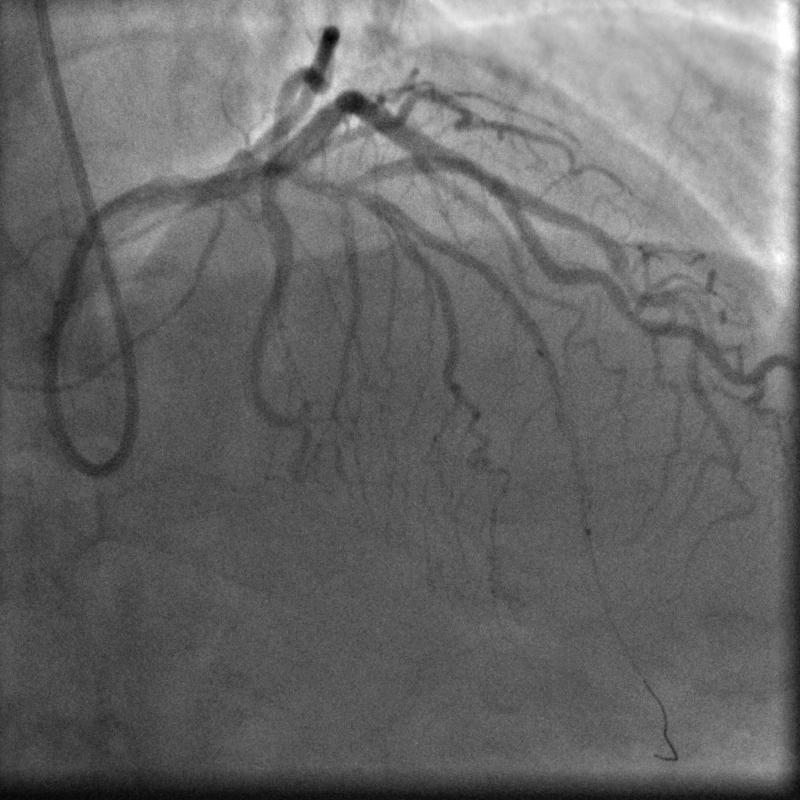Stenosis: (458, 150, 502, 196)
